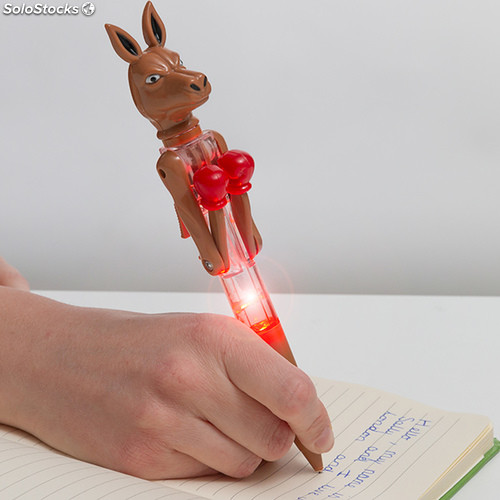Boligrafo: (105, 1, 331, 475)
